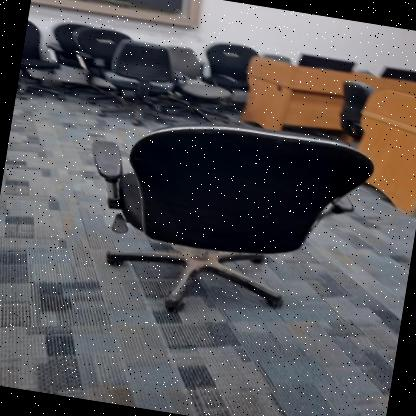chair: (59, 91, 387, 346), (94, 33, 184, 132)
